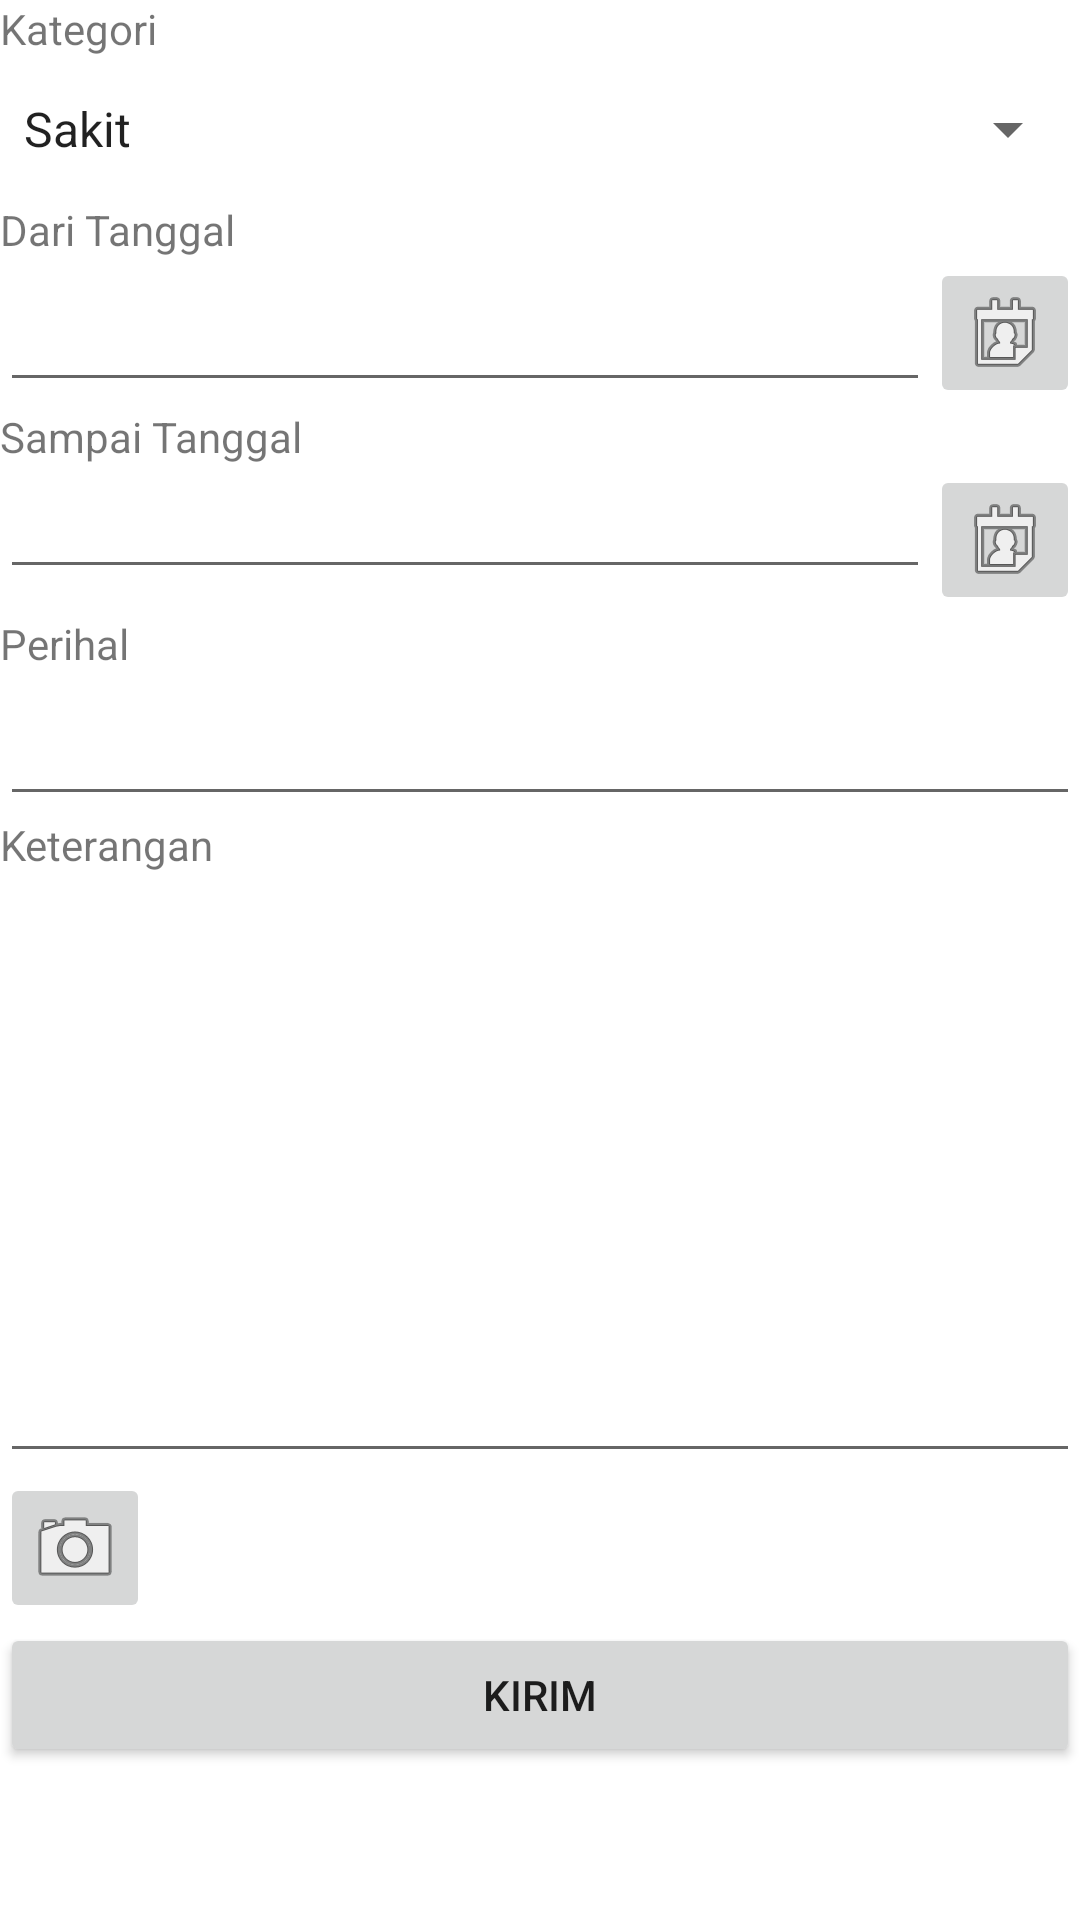

Icon click points for this 1080px×1920px phone screenshot, format (x=x, y=y):
calendar: (x=1005, y=333), (x=1005, y=540)
camera: (x=75, y=1548)
